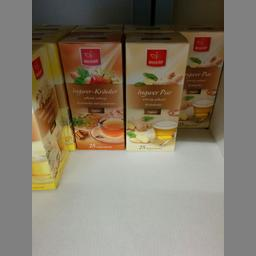tea: (122, 32, 188, 152), (58, 31, 124, 150), (172, 22, 222, 127)
